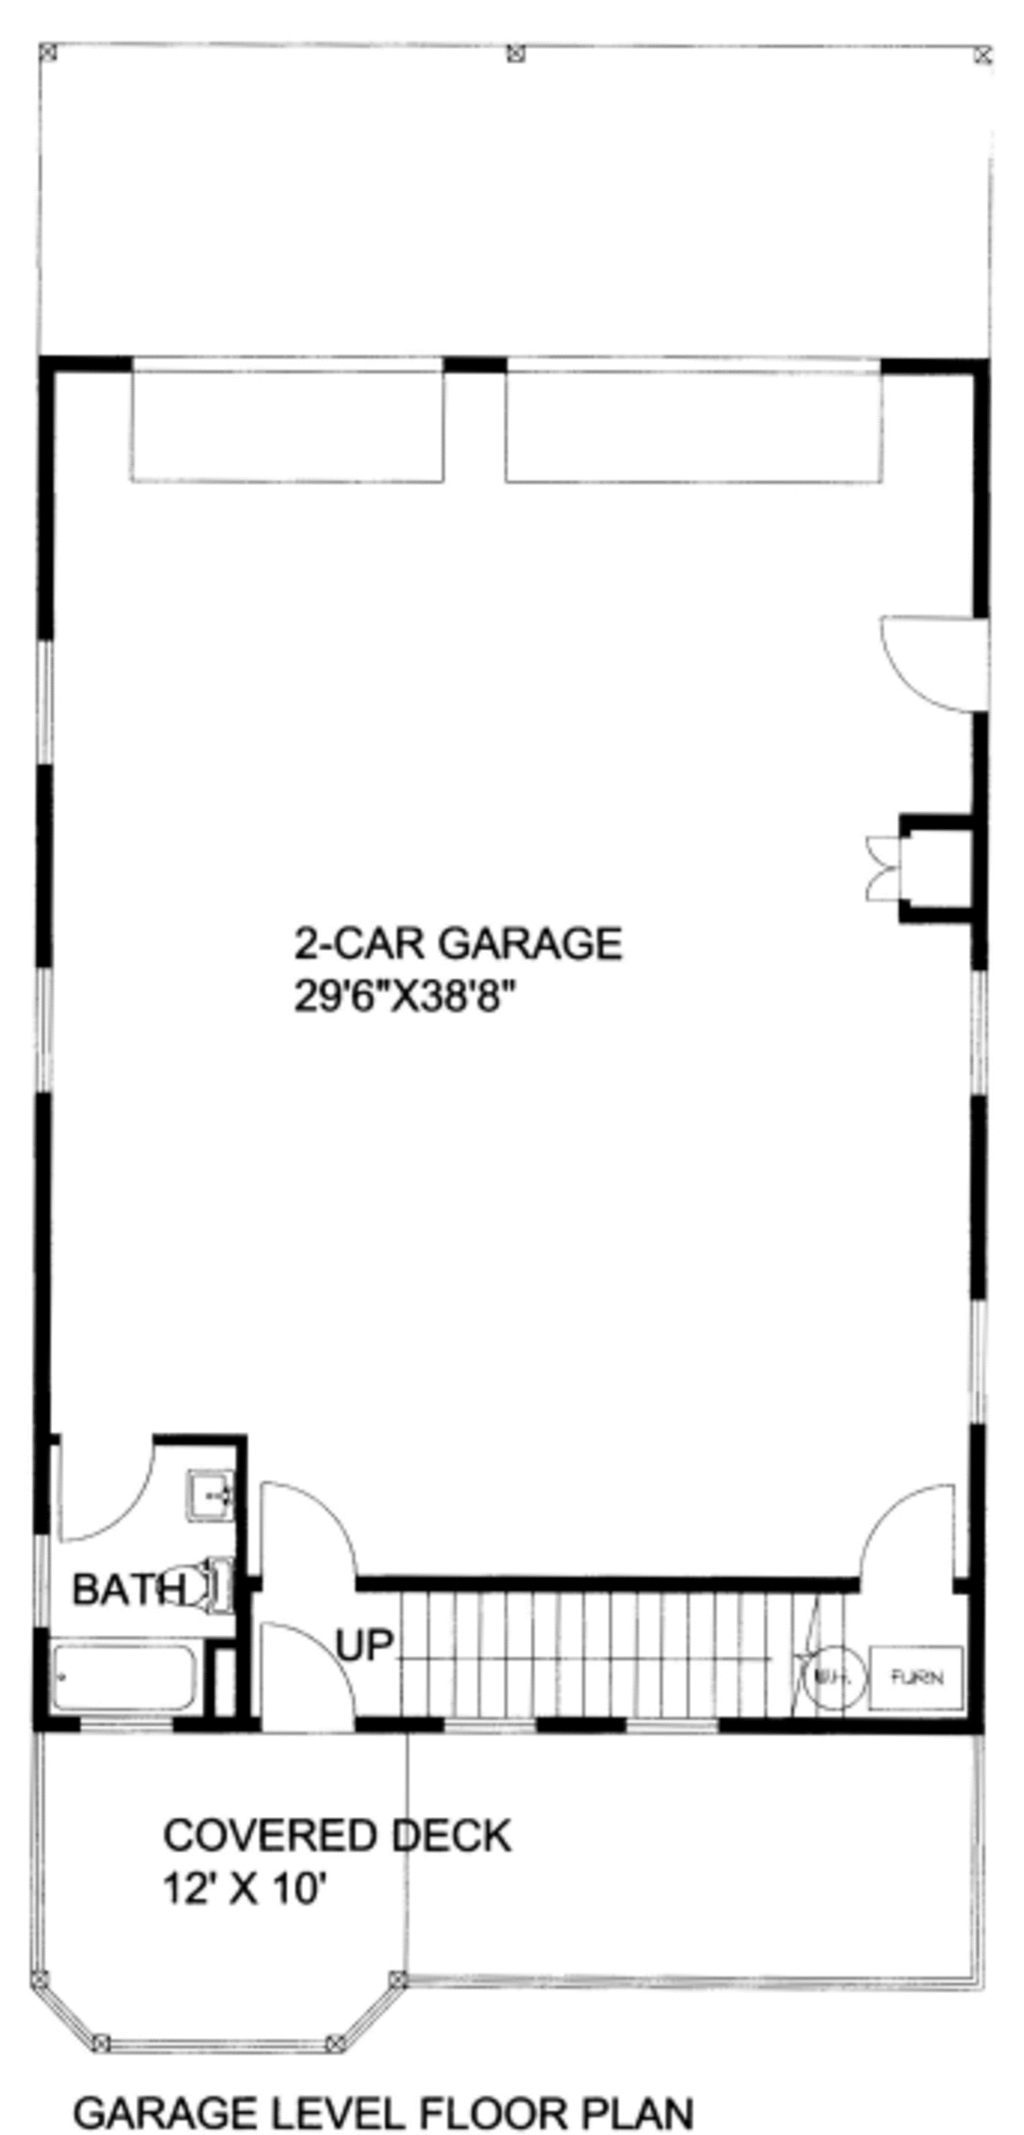door: (248, 1615, 374, 1737), (52, 1415, 163, 1551), (252, 1473, 370, 1593), (884, 605, 999, 715), (858, 1466, 952, 1586), (852, 825, 903, 912)
large_sink: (158, 1554, 248, 1628)
small_sink: (163, 1466, 229, 1544)
stairs: (384, 1584, 881, 1712)
window: (26, 635, 64, 754), (964, 967, 997, 1102), (29, 969, 59, 1096), (968, 1299, 999, 1417), (629, 1709, 733, 1737), (29, 1530, 54, 1634), (452, 1712, 539, 1741), (74, 1718, 161, 1733)
